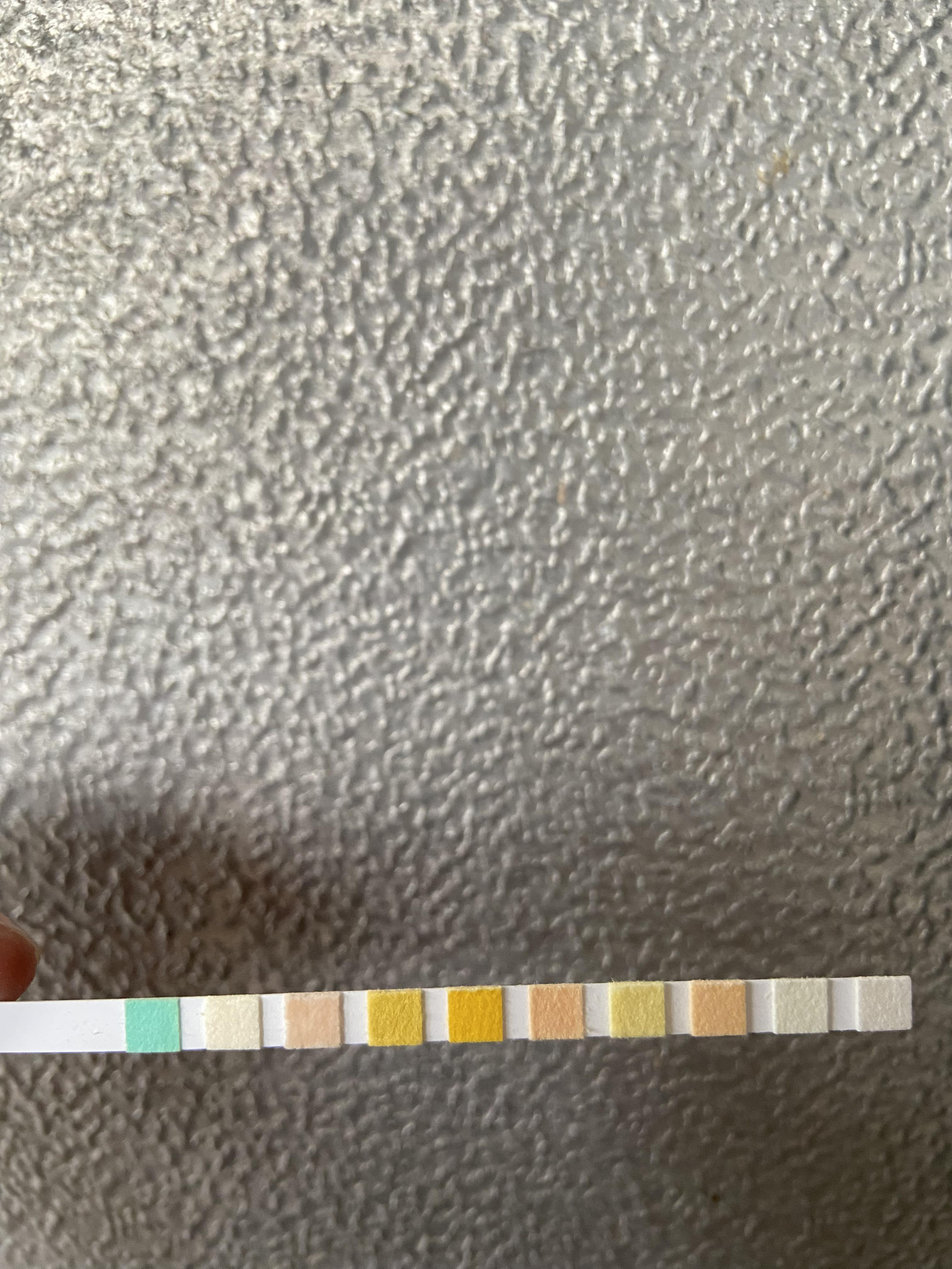Bilirubin: (207, 997, 259, 1050)
Blood: (449, 989, 502, 1042)
Glucose: (127, 999, 178, 1052)
Ketone: (286, 994, 340, 1048)
Leukocytes: (858, 979, 910, 1029)
Nitrite: (775, 980, 827, 1033)
Protein: (612, 983, 664, 1036)
SpGravity: (368, 991, 421, 1047)
Urobilinogen: (692, 982, 745, 1036)
pH: (532, 986, 583, 1040)
strip: (18, 977, 911, 1054)
